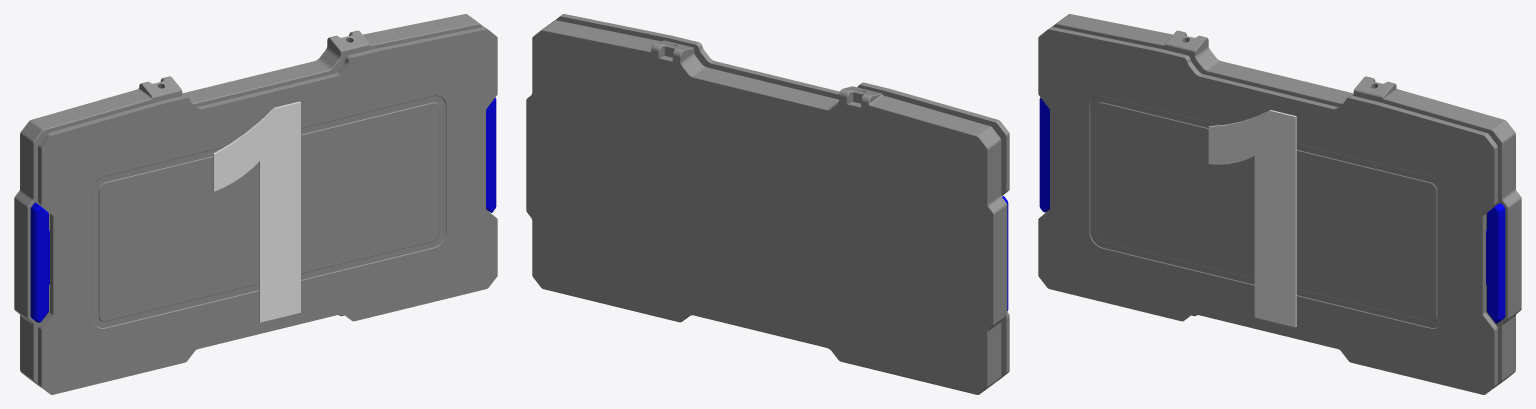
File: hero_armor_panel.gltf
The picture shows the model from 3 angles, left to right: view 1: azimuth 30°, elevation 25°; view 2: azimuth 150°, elevation 25°; view 3: azimuth 330°, elevation 25°; orthographic projection.
Visible parts, largest first — view 1: Main Body of Hero Panel, Hero Number, Light Bar; view 2: Main Body of Hero Panel; view 3: Main Body of Hero Panel, Hero Number, Light Bar.
Boxes of the visible parts, x1,y1,x2,y2 form: Main Body of Hero Panel: [14, 14, 497, 394]; Hero Number: [213, 101, 300, 322]; Light Bar: [30, 97, 496, 322]; Main Body of Hero Panel: [526, 14, 1009, 394]; Main Body of Hero Panel: [1038, 14, 1521, 394]; Hero Number: [1208, 110, 1296, 327]; Light Bar: [1039, 97, 1505, 323].
Size of the model in its own units: 0.236 by 0.1305 by 0.0199.
